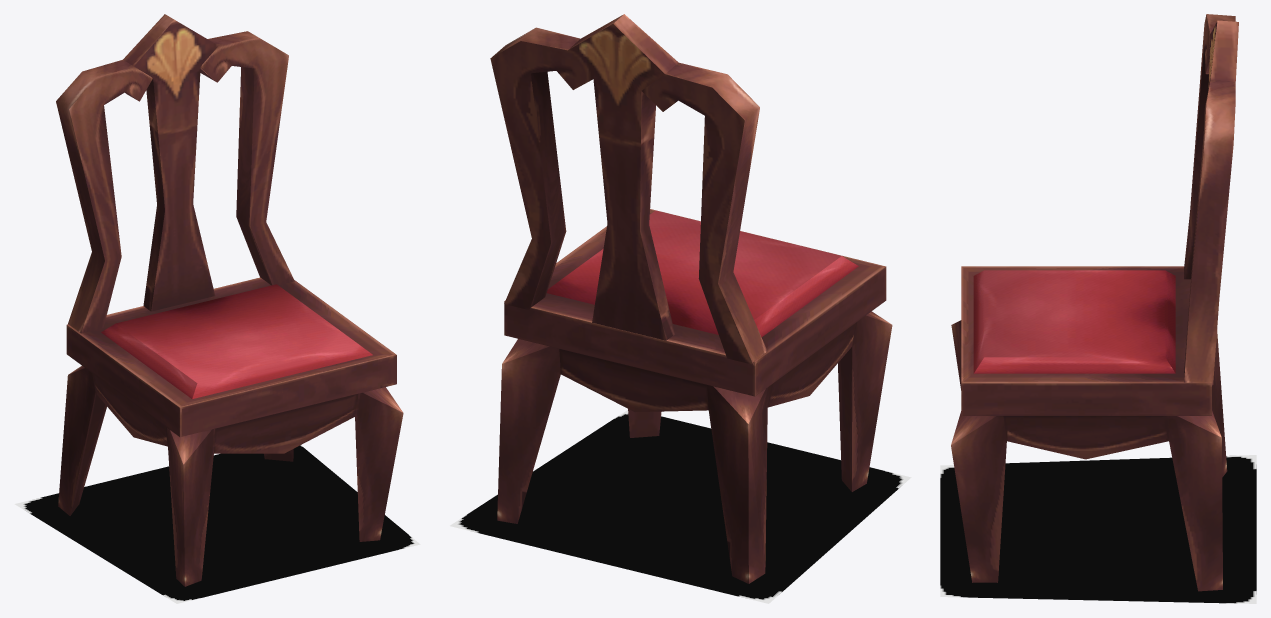
The model's file is jj_ty_yizi01.FBX.
The picture shows the model from 3 angles, left to right: view 1: azimuth 30°, elevation 25°; view 2: azimuth 150°, elevation 25°; view 3: azimuth 270°, elevation 25°; orthographic projection. The views are drawn at different scales.
Parts seen in each view (by area): view 1: jj_ty_yizi01, shadow; view 2: jj_ty_yizi01, shadow; view 3: jj_ty_yizi01, shadow.
Boxes of the visible parts, x1=… form: jj_ty_yizi01: x1=56, y1=14, x2=403, y2=586; shadow: x1=14, y1=445, x2=420, y2=603; jj_ty_yizi01: x1=490, y1=14, x2=892, y2=583; shadow: x1=450, y1=410, x2=911, y2=603; jj_ty_yizi01: x1=951, y1=14, x2=1238, y2=591; shadow: x1=940, y1=455, x2=1256, y2=603.
Bounding box in the file's own units: 90.08 × 145 × 80.75.
